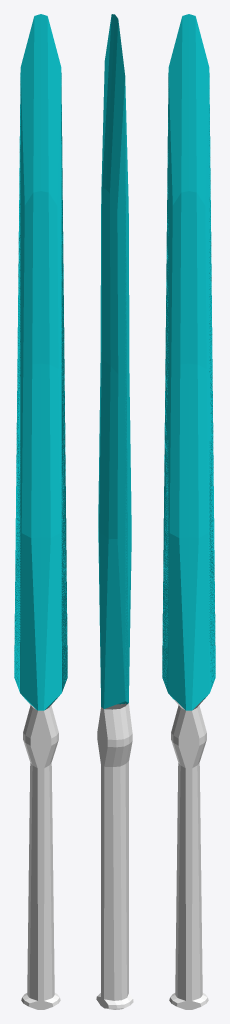
Rendered from Weapon_LaserBlade.fbx.
The picture shows the model from 3 angles, left to right: view 1: azimuth 90°, elevation 25°; view 2: azimuth 210°, elevation 25°; view 3: azimuth 270°, elevation 25°; orthographic projection.
Parts seen in each view (by area): view 1: Plane.001; view 2: Plane.001; view 3: Plane.001.
Part boxes in pixels (x1,y1,x2,y2): Plane.001: (14, 14, 67, 1009); Plane.001: (96, 14, 133, 1009); Plane.001: (162, 14, 215, 1009).
Size of the model in its own units: 4.03 by 154 by 7.55.
Materials: 1 (1 with a texture image).
